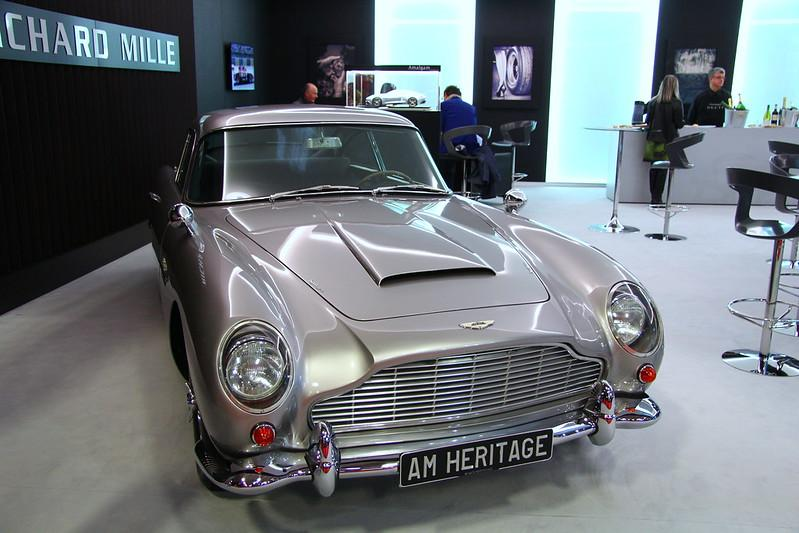windshield: (185, 123, 452, 210)
